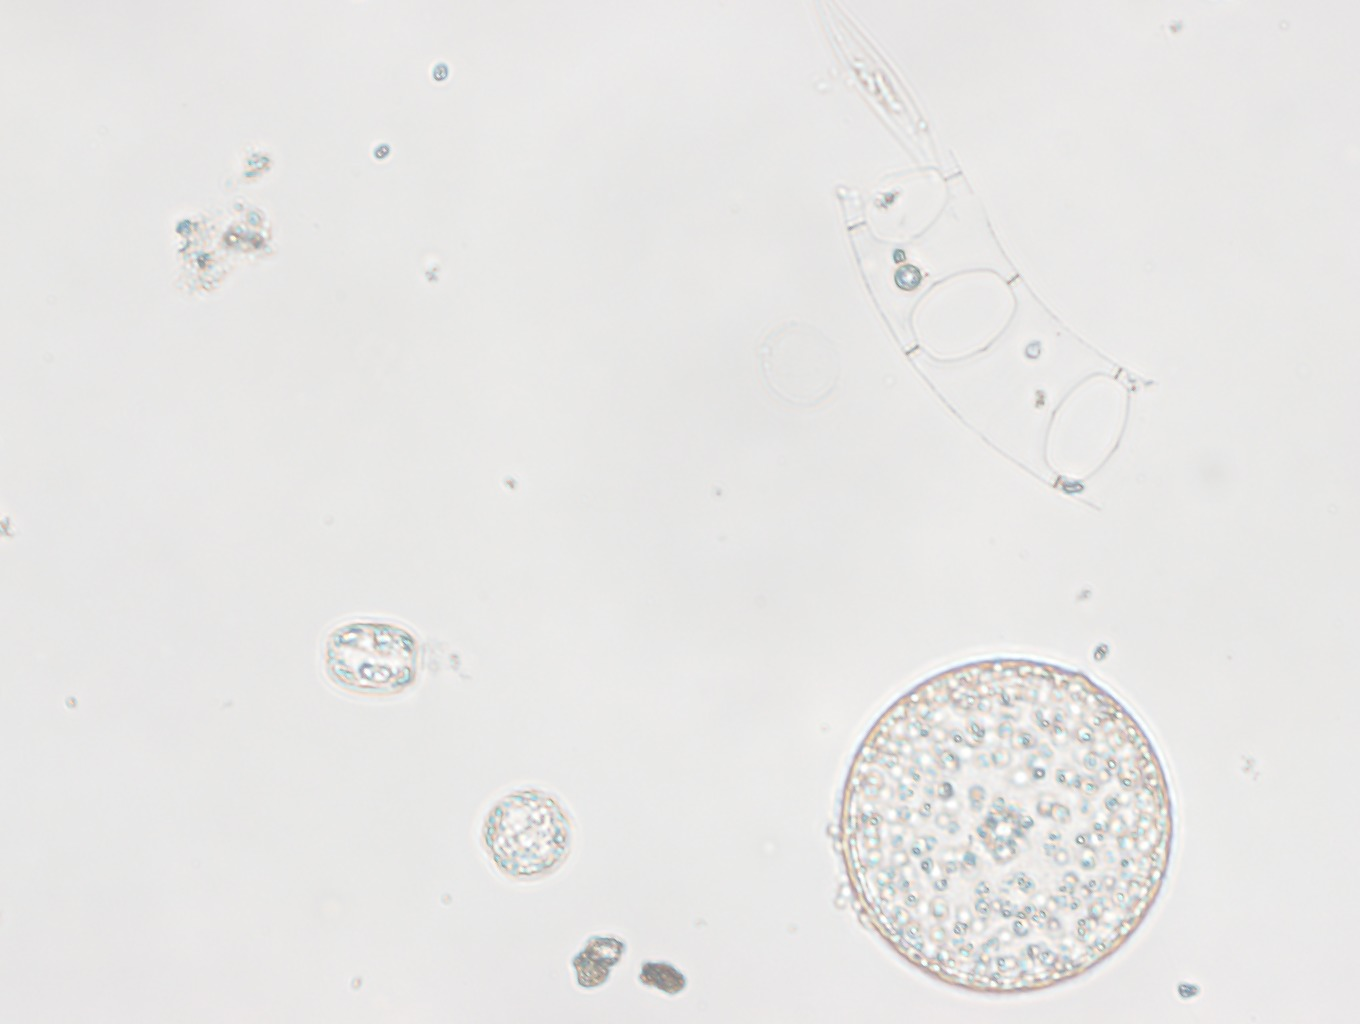coscinodiscus: (838, 658, 1172, 995)
eucampia: (834, 150, 1160, 516)
pleurosigma pelagicum: (815, 1, 941, 171)
